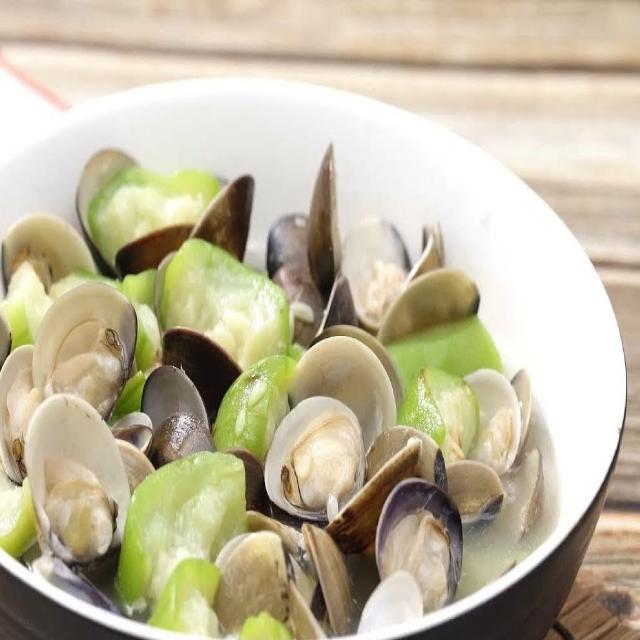Wet: (18, 151, 512, 603)
